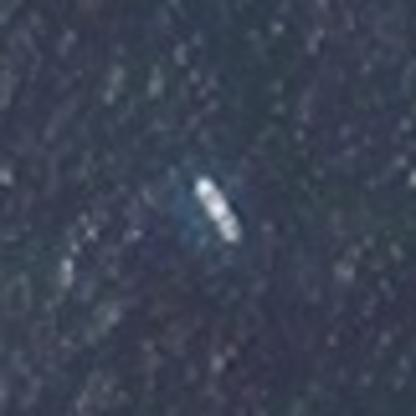ship: (182, 167, 249, 251)
